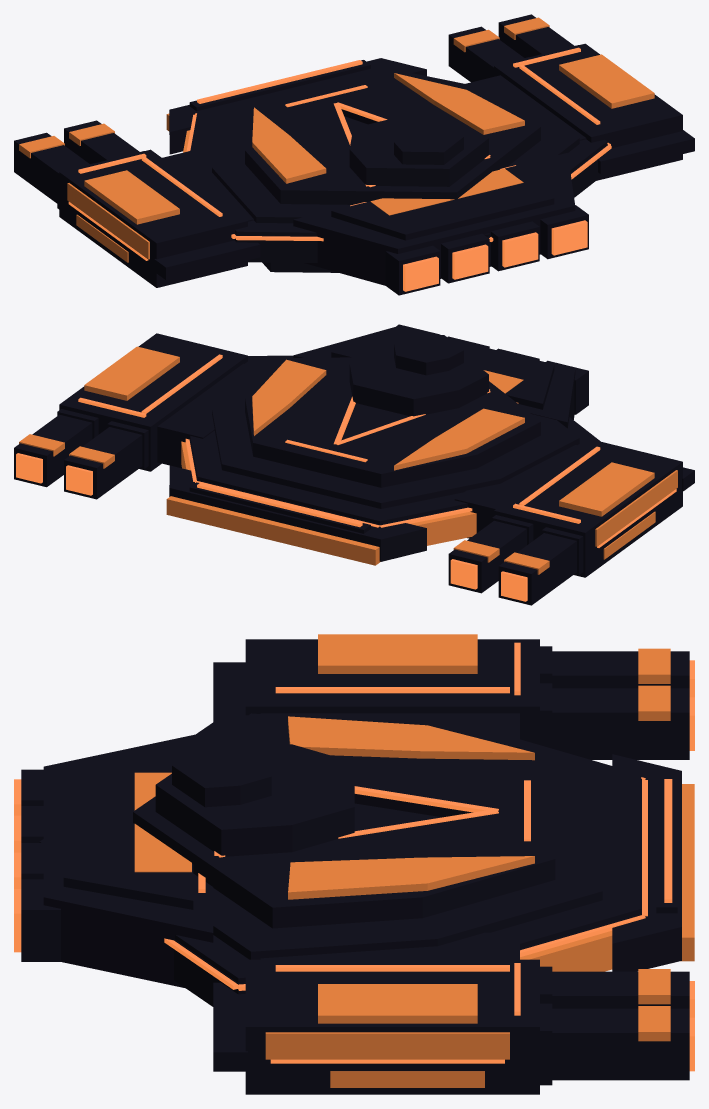
Rendered from boss_dreadnought.glb.
3 renders of one model, top to bottom at view 1: azimuth 30°, elevation 25°; view 2: azimuth 150°, elevation 25°; view 3: azimuth 270°, elevation 25°, orthographic. The views are drawn at different scales.
Visible parts, largest first — view 1: deck_plate, cannon_pod_port, drive_section, cannon_pod_starboard, midtier_plate, drive_section_cap, dorsal_crown, hull_rim_cap, deck_armor_starboard, pod_armor_deck_port, pod_armor_deck_starboard, deck_armor_port (+31 smaller); view 2: deck_plate, midtier_plate, cannon_pod_port, cannon_pod_starboard, dorsal_crown, hull_rim_cap, prow_armor_bar, prow_ram_block, drive_section_cap, deck_armor_port, pod_pylon_starboard, barrel_port_inner (+30 smaller); view 3: deck_plate, cannon_pod_starboard, midtier_plate, cannon_pod_port, drive_section, dorsal_crown, drive_section_cap, hull_rim_cap, barrel_starboard_outer, barrel_port_outer, deck_armor_starboard, deck_armor_port (+36 smaller).
Boxes of the visible parts, x1,y1,x2,y2 form: deck_plate: [245, 74, 540, 204]; cannon_pod_port: [59, 149, 247, 287]; drive_section: [293, 153, 575, 285]; cannon_pod_starboard: [494, 43, 682, 180]; midtier_plate: [212, 73, 579, 223]; drive_section_cap: [331, 159, 554, 240]; dorsal_crown: [349, 113, 488, 186]; hull_rim_cap: [190, 66, 607, 237]; deck_armor_starboard: [394, 73, 524, 134]; pod_armor_deck_port: [84, 170, 179, 224]; pod_armor_deck_starboard: [559, 54, 654, 108]; deck_armor_port: [252, 107, 326, 183]; deck_plate: [245, 357, 540, 487]; midtier_plate: [212, 358, 579, 508]; cannon_pod_port: [494, 439, 682, 577]; cannon_pod_starboard: [59, 333, 247, 471]; dorsal_crown: [349, 344, 488, 416]; hull_rim_cap: [190, 355, 600, 524]; prow_armor_bar: [166, 496, 380, 565]; prow_ram_block: [169, 465, 426, 561]; drive_section_cap: [331, 328, 554, 409]; deck_armor_port: [394, 408, 524, 470]; pod_pylon_starboard: [157, 363, 249, 468]; barrel_port_inner: [498, 533, 576, 605]; deck_plate: [133, 716, 555, 928]; cannon_pod_starboard: [245, 959, 539, 1094]; midtier_plate: [213, 713, 602, 959]; cannon_pod_port: [245, 639, 539, 744]; drive_section: [43, 731, 213, 988]; dorsal_crown: [155, 739, 354, 856]; drive_section_cap: [63, 745, 193, 909]; hull_rim_cap: [39, 705, 641, 983]; barrel_starboard_outer: [552, 1008, 689, 1080]; barrel_port_outer: [552, 688, 689, 759]; deck_armor_starboard: [288, 856, 534, 899]; deck_armor_port: [288, 716, 534, 760].
Size of the model in its own units: 37.1 by 7.04 by 27.31.
